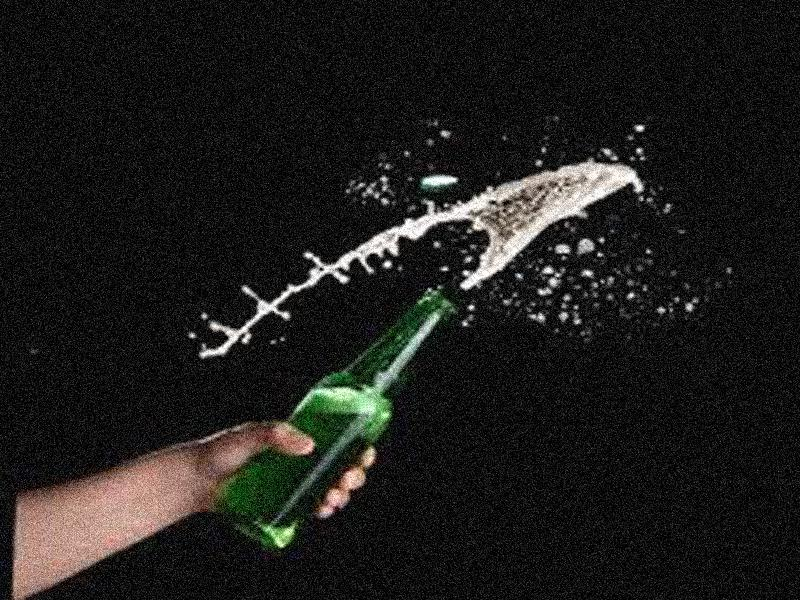Beer: (216, 291, 454, 553)
